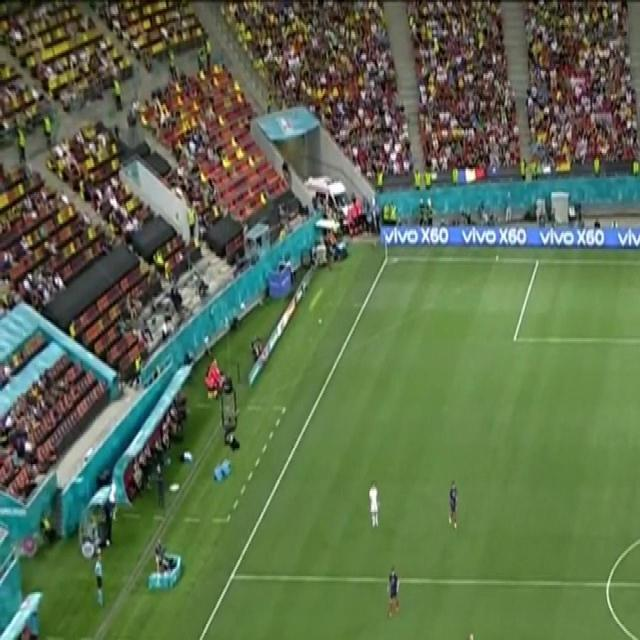player-white: (385, 564, 402, 621), (91, 552, 106, 610), (367, 476, 381, 534), (447, 478, 459, 533), (463, 627, 479, 640)
